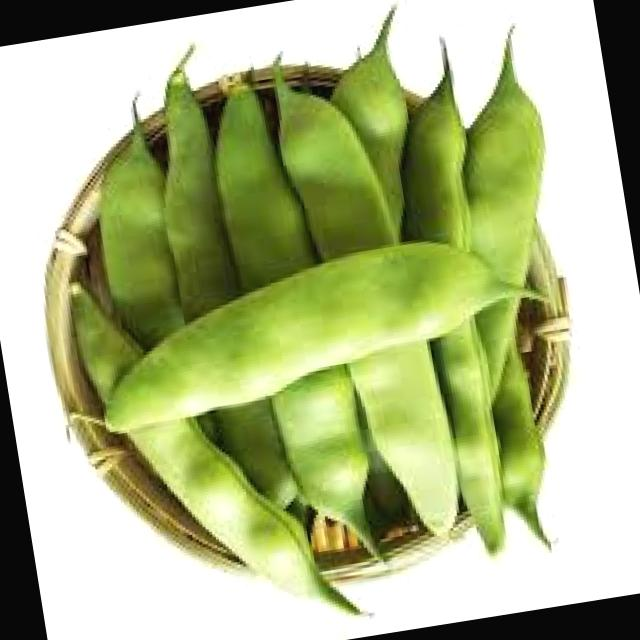organic: (30, 16, 625, 638)
